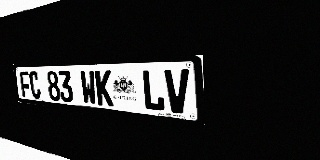3: (58, 70, 73, 102)
8: (46, 71, 61, 101)
C: (28, 71, 41, 99)
F: (19, 71, 32, 98)
K: (95, 70, 114, 107)
L: (141, 69, 165, 112)
V: (164, 69, 190, 115)
W: (80, 70, 97, 105)
